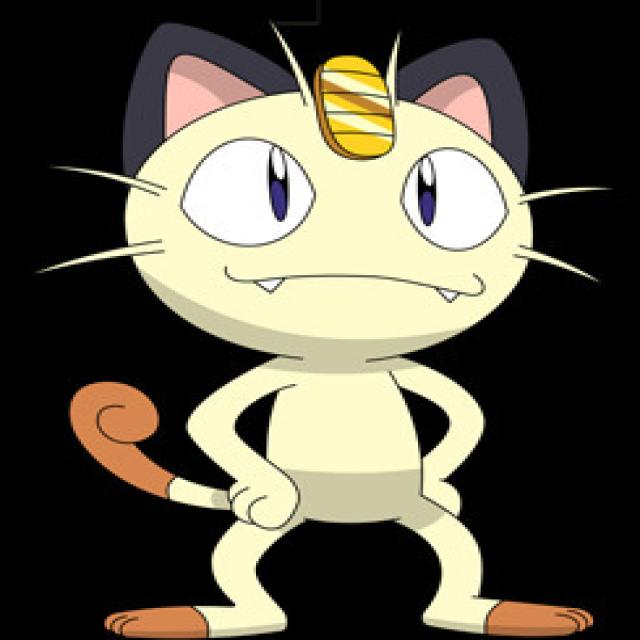Meowth: (108, 23, 550, 633)
